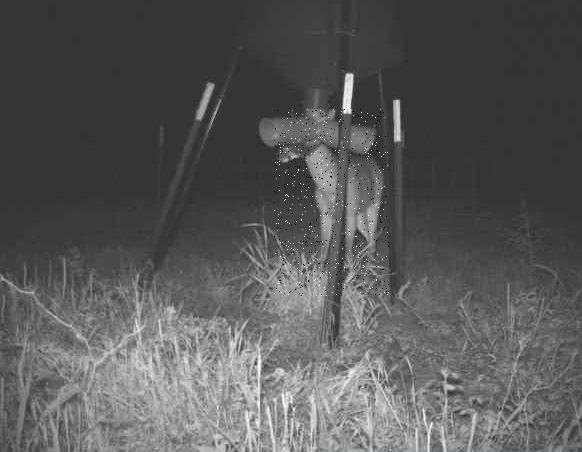Deer: (273, 110, 388, 297)
